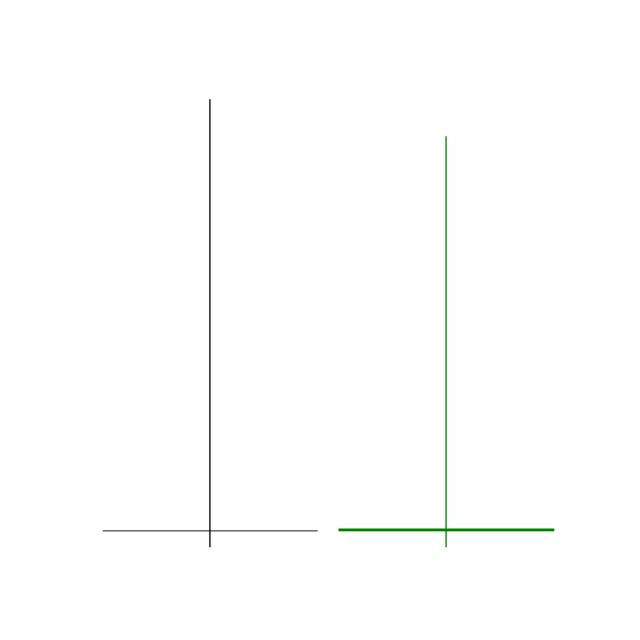Gravestone Doji: (327, 132, 565, 552)
